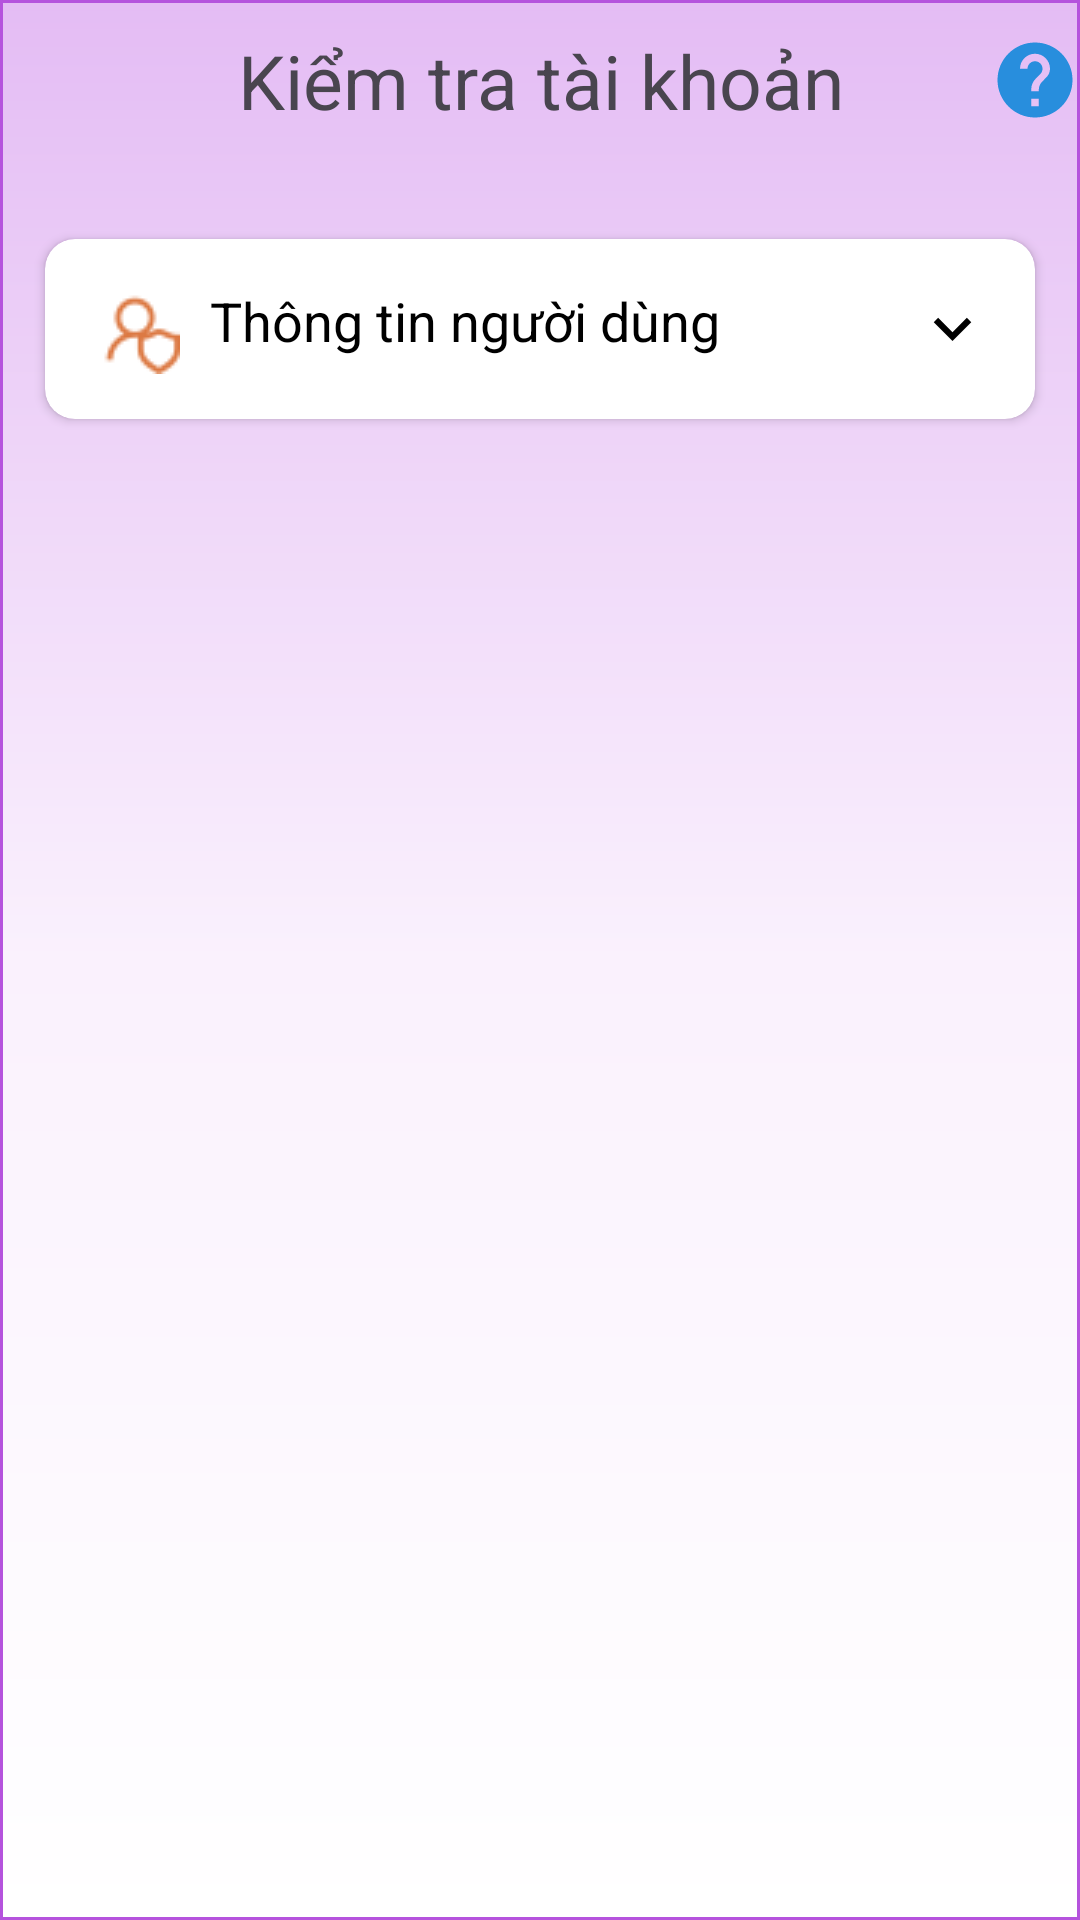

Icon click points for this 1080x1920 phone screenshot, format (x,y):
help: (1035,80)
